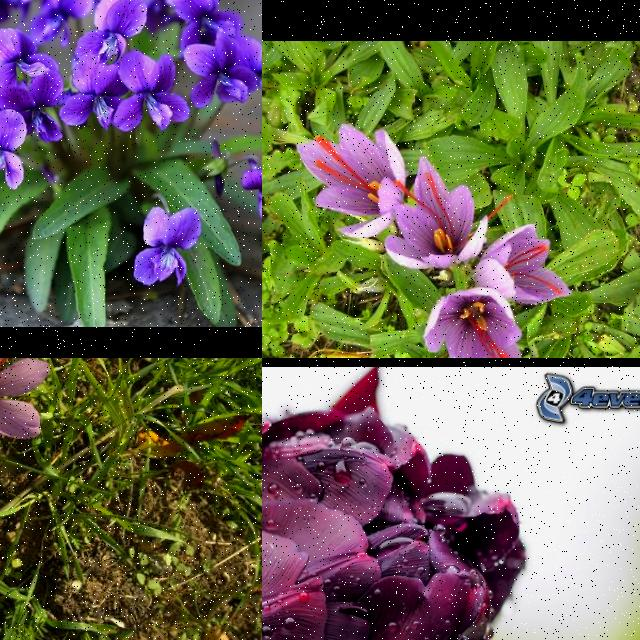flower: (385, 156, 515, 270), (295, 123, 407, 240), (473, 224, 573, 306), (422, 287, 523, 358), (0, 358, 52, 441)
